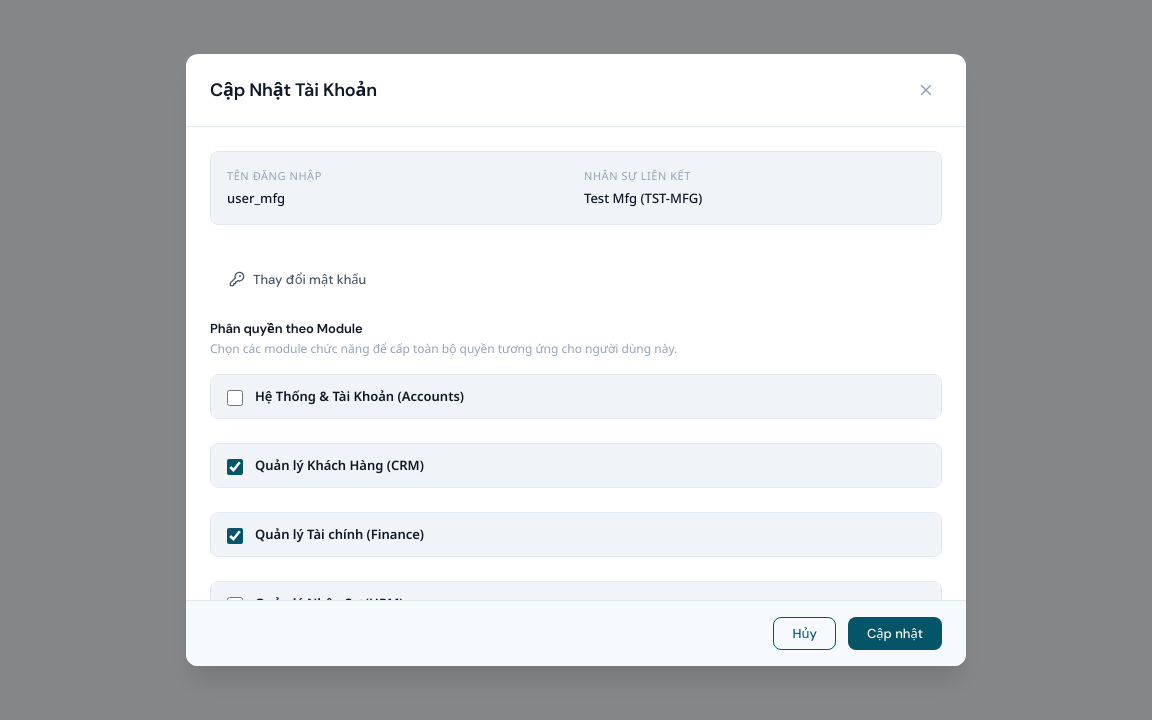
Test: AccountModal › submits change password successfully and closes sub-modal
Step 1. Click the button "Thay đổi mật khẩu" → (298, 279), box [210,261,385,297]
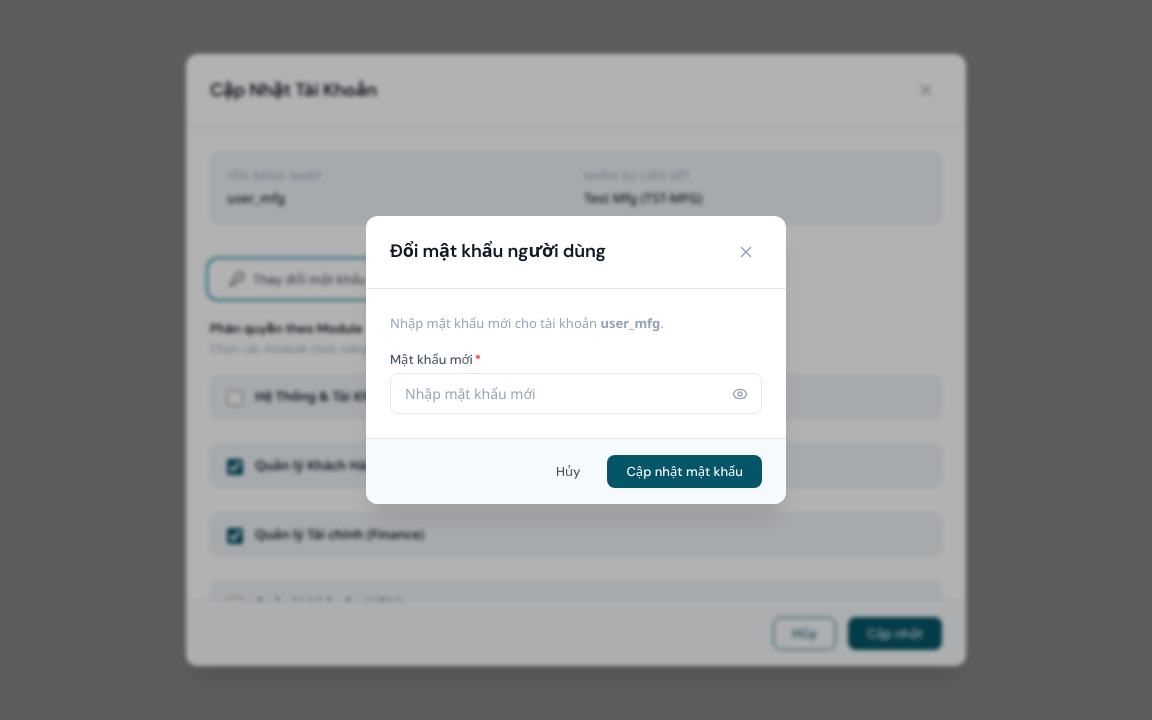
Step 2. Type "NewStrongPass123!" into the password field labelled "Mật khẩu mới*" → (576, 394), box [390,373,762,414]
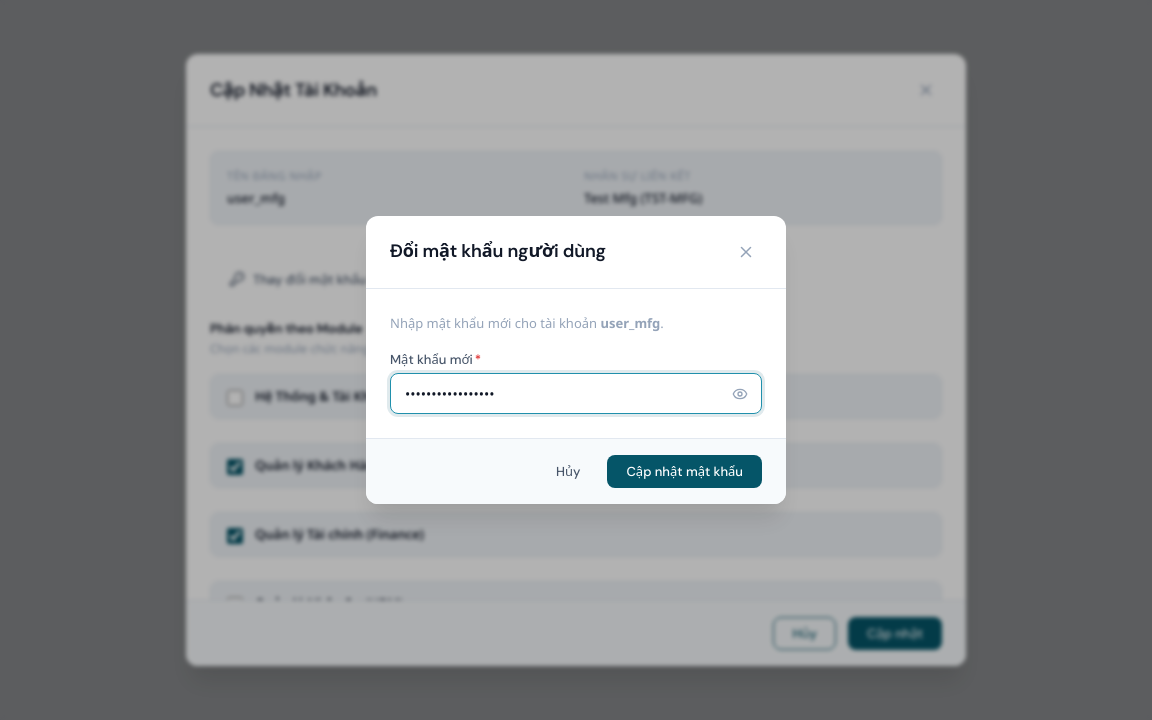
Step 3. Click the button "Cập nhật mật khẩu" → (685, 472), box [608,455,762,488]
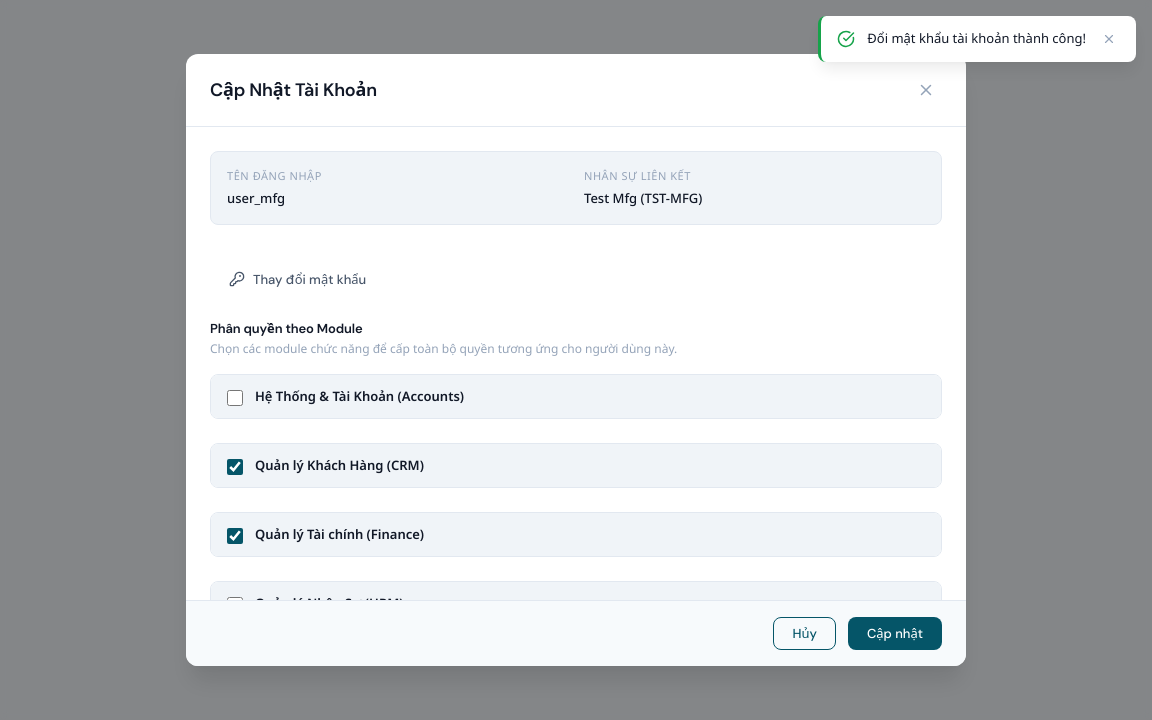
Now the heading "Đổi mật khẩu người dùng" is gone
